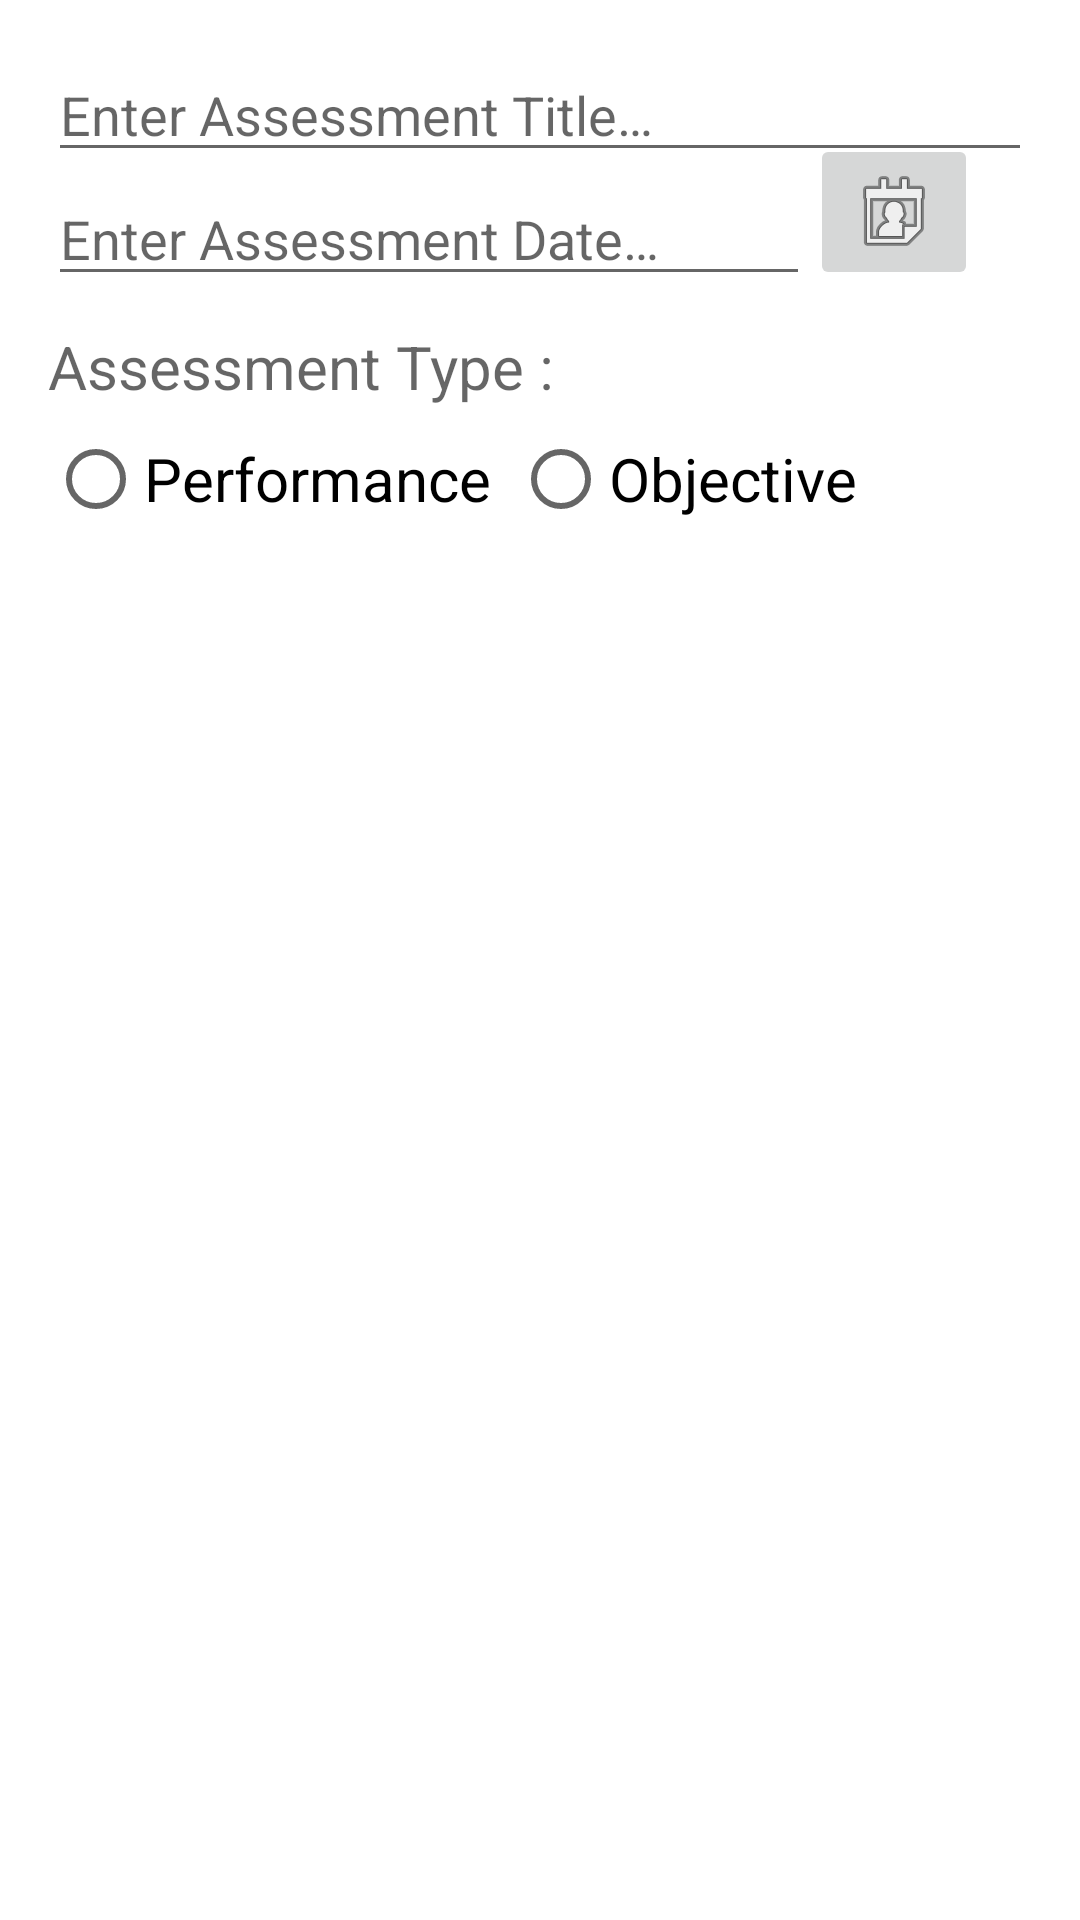

Named icons in this screenshot (1080*1920) and their centers, point (x, y):
Start Date Picker: point (894, 212)
